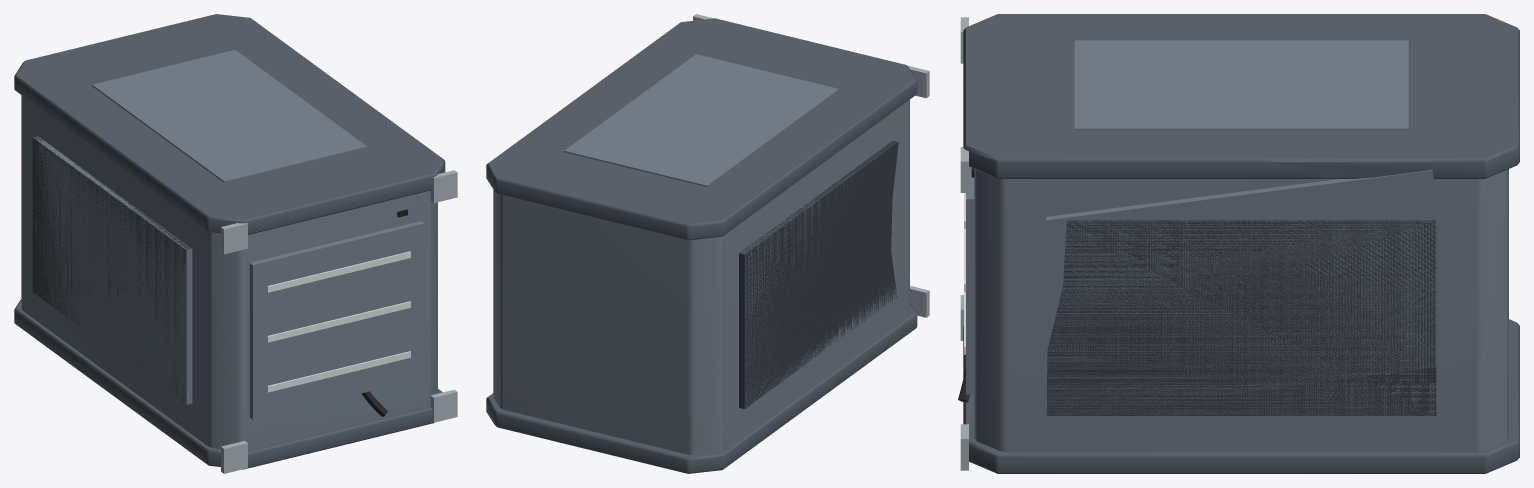
Rendered from shr_cmp_generic_block_alloy_a.glb.
3 views of the same model, side by side, from view 1: azimuth 30°, elevation 25°; view 2: azimuth 150°, elevation 25°; view 3: azimuth 270°, elevation 25° (orthographic). The views are drawn at different scales.
Visible parts, largest first — view 1: mesh_intact, mesh_heavy; view 2: mesh_heavy, mesh_intact; view 3: mesh_heavy, mesh_intact, mesh_light.
Boxes of the visible parts, x1,y1,x2,y2 form: mesh_intact: (26, 18, 457, 473); mesh_heavy: (14, 14, 457, 469); mesh_heavy: (486, 18, 929, 473); mesh_intact: (489, 14, 929, 407); mesh_heavy: (958, 14, 1519, 473); mesh_intact: (960, 14, 1516, 451); mesh_light: (1049, 170, 1462, 407).
Size of the model in its own units: 0.504 by 0.503 by 0.8076.
